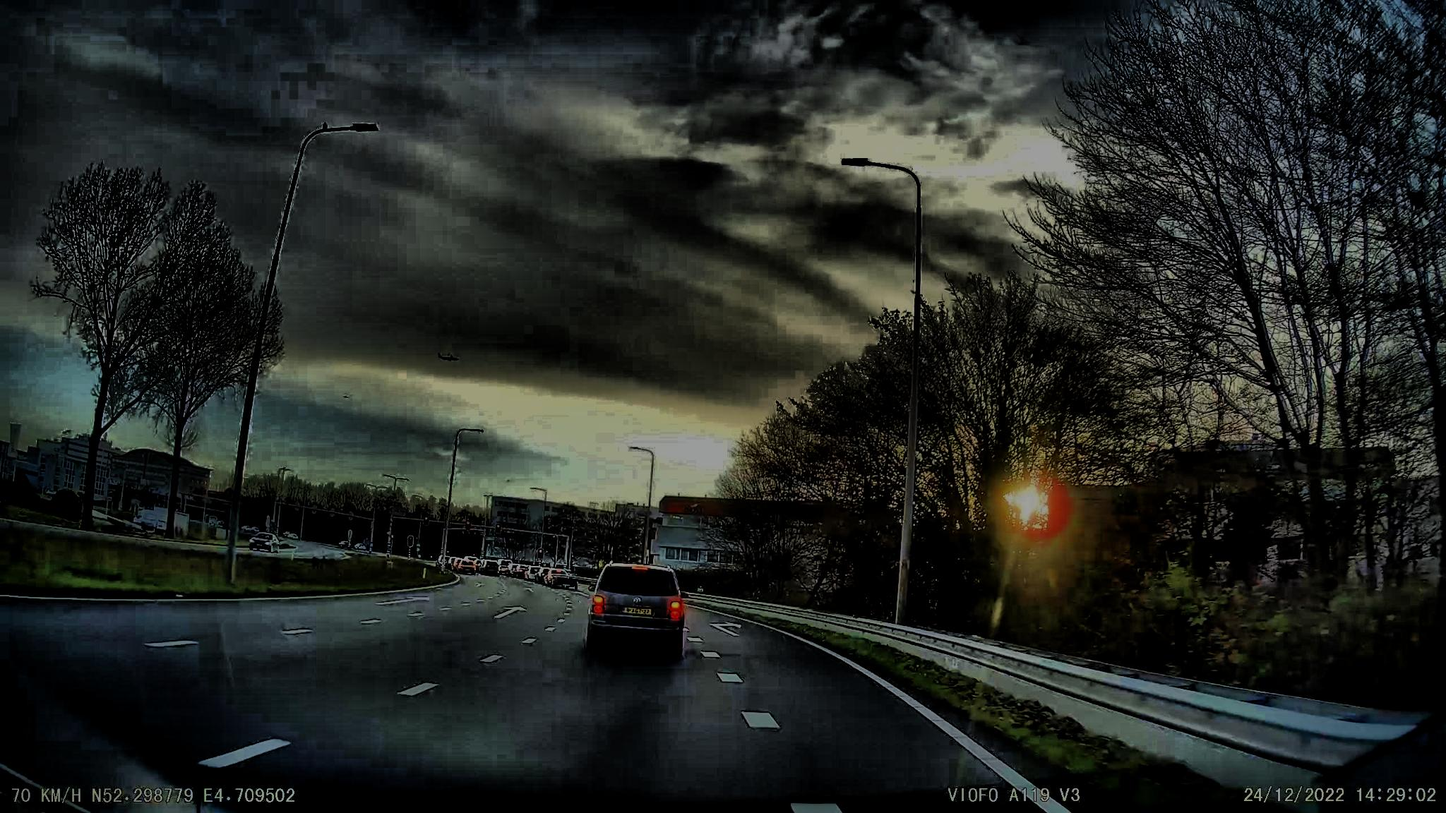Roads: (0, 576, 1123, 813)
